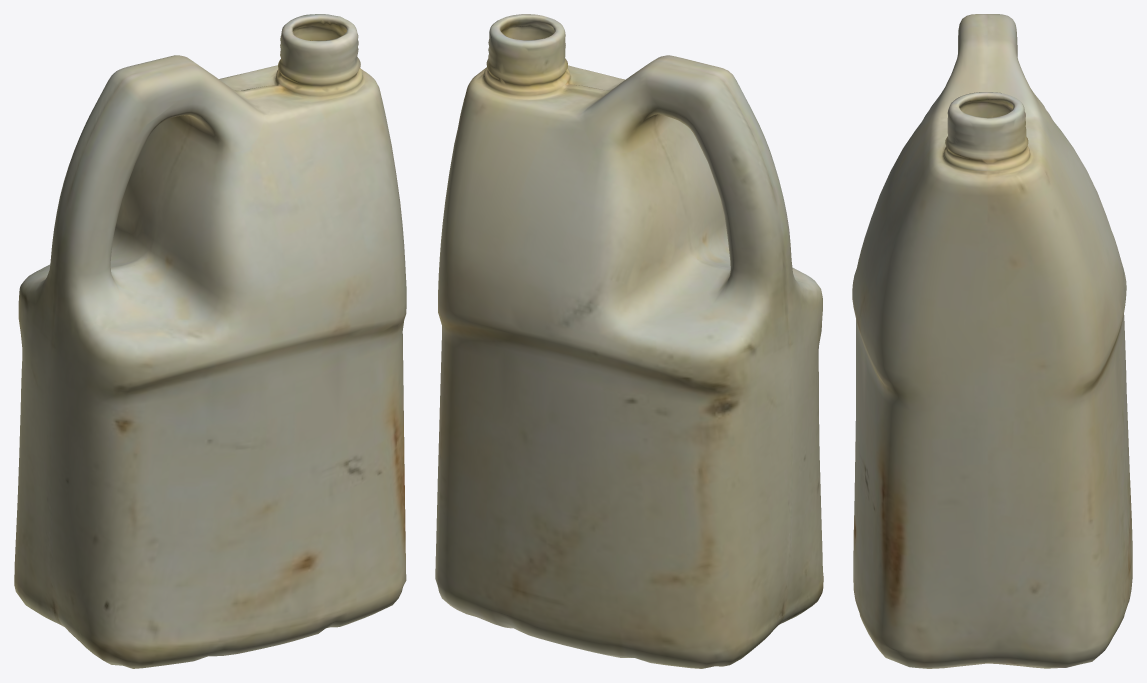
The model's file is plastic_bottle_gallon.glb.
3 renders of one model, left to right at view 1: azimuth 30°, elevation 25°; view 2: azimuth 150°, elevation 25°; view 3: azimuth 270°, elevation 25°, orthographic.
Parts seen in each view (by area): view 1: plastic_bottle_gallon; view 2: plastic_bottle_gallon; view 3: plastic_bottle_gallon.
Boxes of the visible parts, x1,y1,x2,y2 form: plastic_bottle_gallon: (14, 14, 406, 668); plastic_bottle_gallon: (435, 14, 823, 668); plastic_bottle_gallon: (852, 14, 1132, 668).
Size of the model in its own units: 0.1663 by 0.2745 by 0.1263.
Materials: 1 (1 with a texture image).
